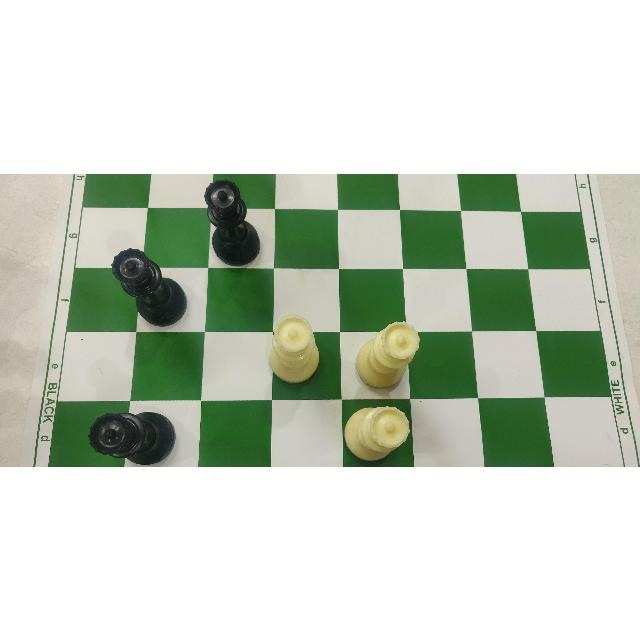black-queen: (106, 241, 185, 326), (81, 402, 175, 458), (204, 179, 248, 264)
white-queen: (352, 316, 421, 386), (265, 318, 322, 388), (340, 405, 411, 455)
